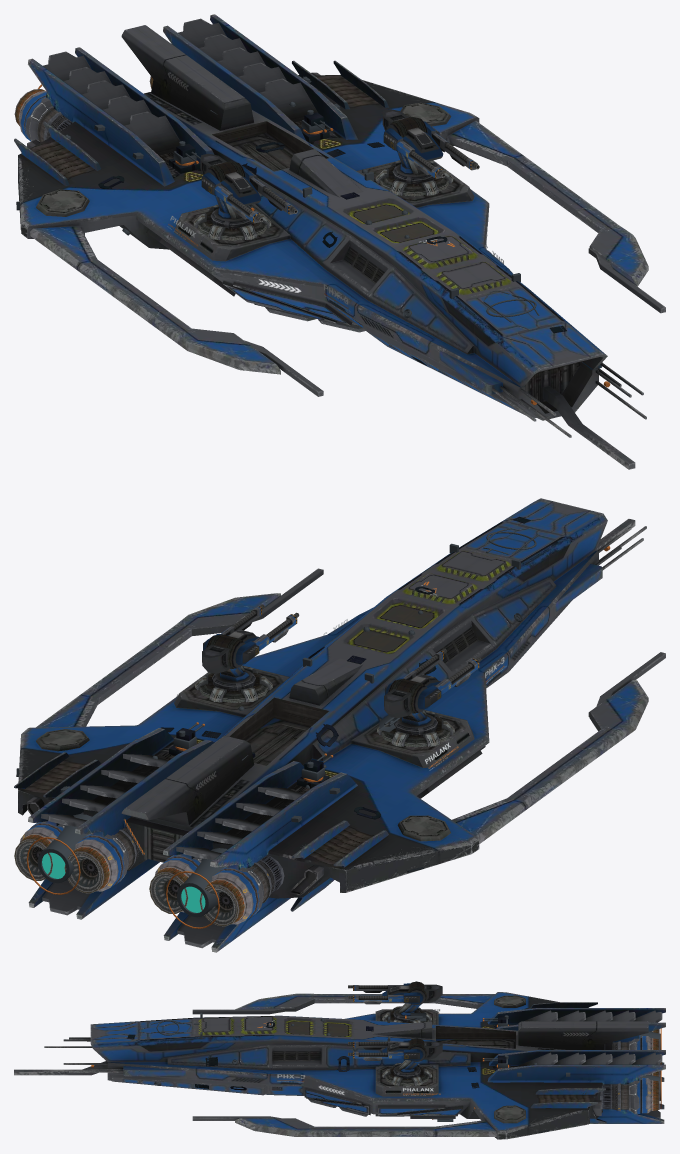
Rendered from ort_phalanx.glb.
The picture shows the model from 3 angles, top to bottom: view 1: azimuth 30°, elevation 25°; view 2: azimuth 150°, elevation 25°; view 3: azimuth 270°, elevation 25°; orthographic projection. The views are drawn at different scales.
Parts seen in each view (by area): view 1: SHIP_hull.001, SHIP_kit_detail.001; view 2: SHIP_hull.001, SHIP_kit_detail.001; view 3: SHIP_hull.001, SHIP_kit_detail.001, SHIP_decals.001.
Part boxes in pixels (bbox=[...]): SHIP_hull.001: bbox=[14, 14, 665, 469]; SHIP_kit_detail.001: bbox=[16, 76, 610, 405]; SHIP_hull.001: bbox=[14, 498, 665, 952]; SHIP_kit_detail.001: bbox=[16, 516, 610, 928]; SHIP_hull.001: bbox=[14, 981, 665, 1139]; SHIP_kit_detail.001: bbox=[91, 1012, 661, 1132]; SHIP_decals.001: bbox=[257, 1009, 440, 1095].
Bounding box in the file's own units: 40.87 × 11.31 × 80.
Materials: 9 (5 with a texture image).
